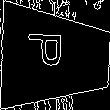P_E: (34, 38, 77, 77)
